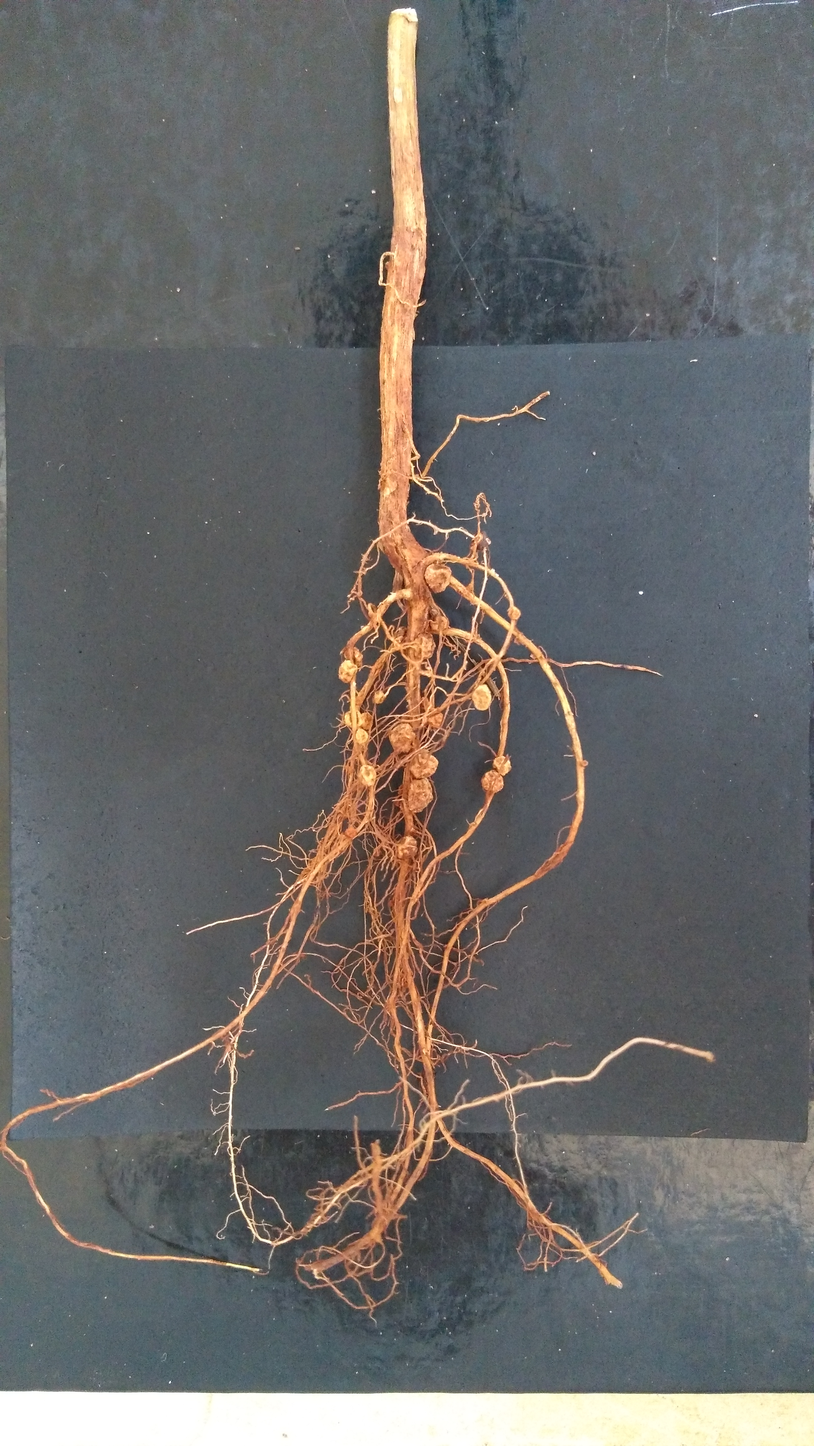nodule: (407, 776, 437, 814), (422, 561, 454, 596), (408, 747, 440, 781), (388, 723, 417, 754), (478, 768, 506, 794), (335, 657, 359, 686), (471, 683, 493, 714), (394, 834, 419, 861), (427, 612, 452, 633), (417, 632, 436, 659), (491, 754, 513, 777), (341, 646, 363, 668), (358, 763, 377, 788), (343, 708, 363, 728), (427, 707, 445, 729), (472, 529, 490, 551), (358, 709, 373, 731), (506, 604, 522, 622), (371, 688, 386, 705), (354, 727, 368, 745)
